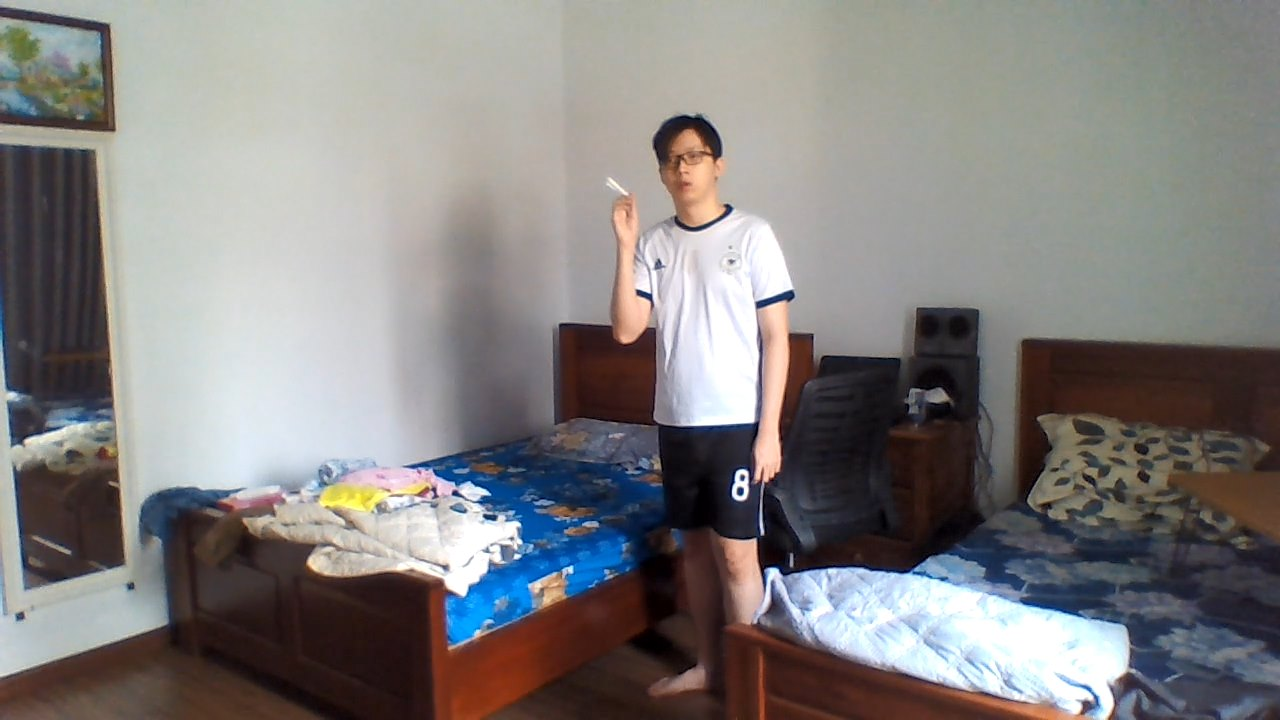cigarette: (606, 174, 629, 196)
person: (579, 103, 802, 580)
